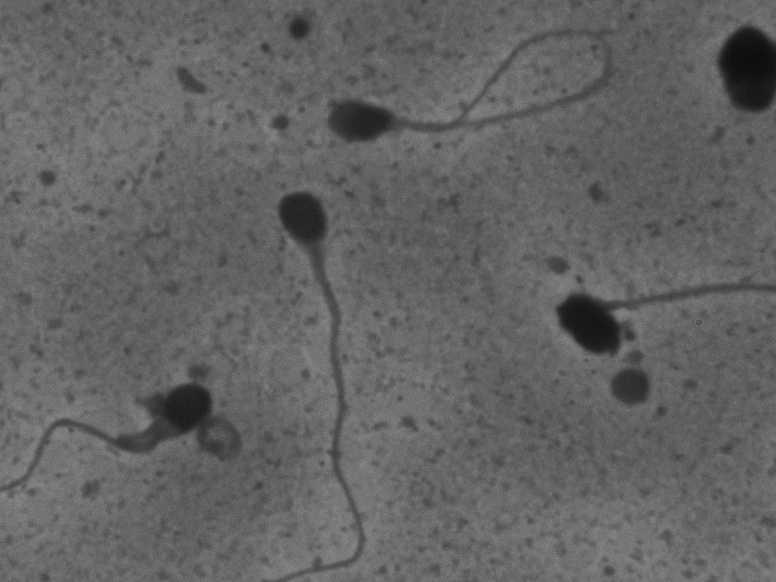Abnormal: (262, 175, 392, 577), (314, 22, 640, 155), (12, 325, 221, 530), (523, 238, 769, 373)
